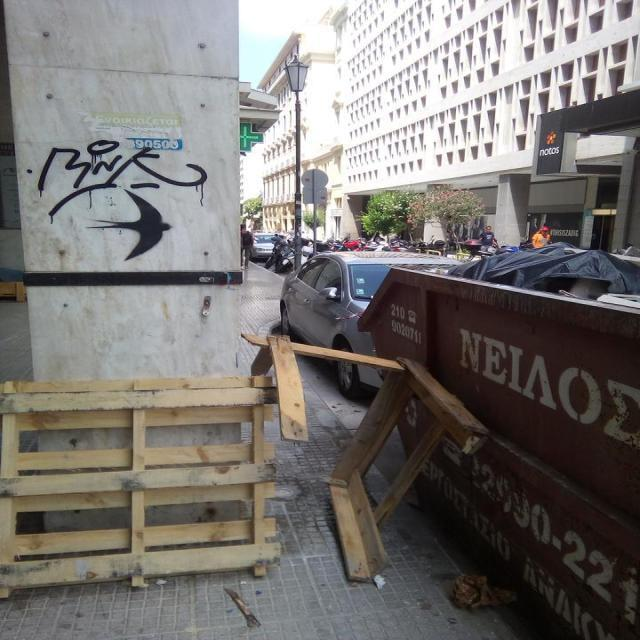nonspitting: (36, 140, 208, 264)
